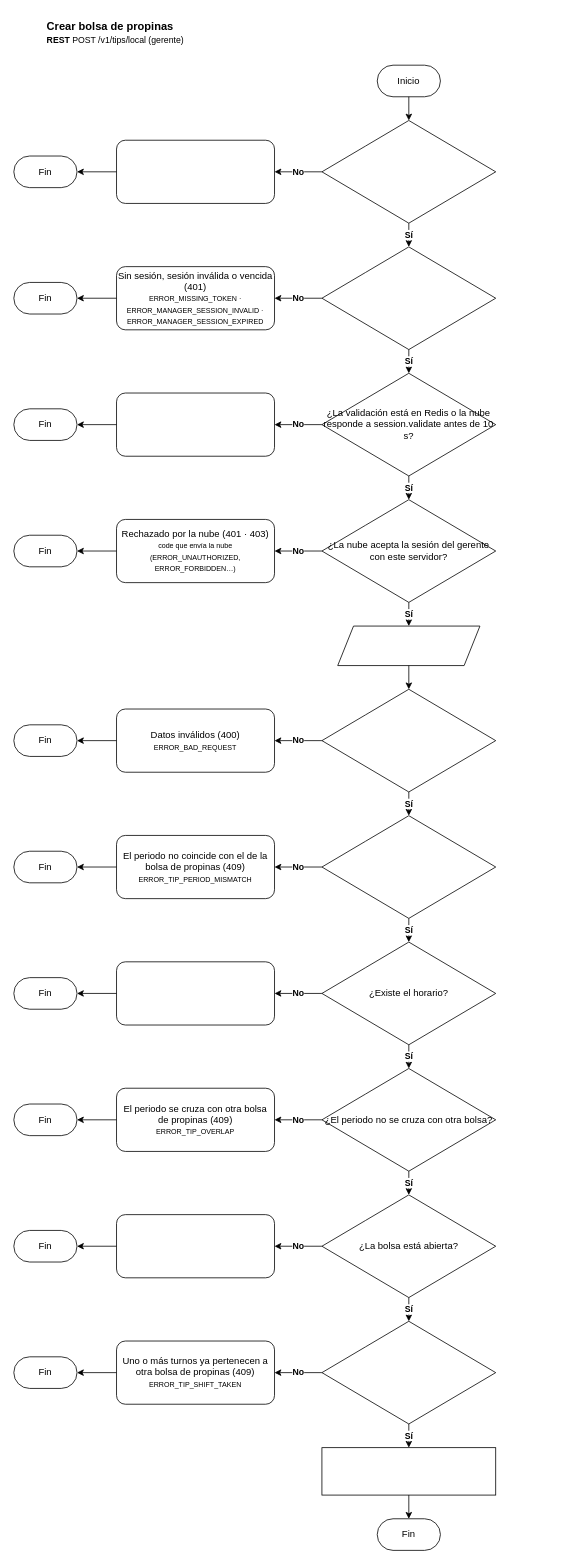
This 565x1564 diagram has some shape labels left out. The shapes that lost their labels are listed below. From the top down, each one's centre as x and y in pixels, then its label:
[195,171]: Servidor sin emparejar (409) ERROR_SERVER_NOT_PAIRED
[408,171]: ¿El servidor ya se emparejó alguna vez (pairing_status distinto de unpaired)?
[408,298]: ¿Trae una sesión de gerente válida (Bearer mss_..., sin 30 min de inactividad)?
[195,424]: La nube no responde (503) ERROR_CLOUD_UNAVAILABLE · ERROR_SERVER_UNLINKED
[408,645]: Recibir datos
[408,740]: ¿Los datos son válidos?
[408,866]: ¿El periodo coincide con el tip_period de la configuración?
[195,993]: No se encontró el horario (404) ERROR_WORK_SCHEDULE_NOT_FOUND
[195,1246]: La bolsa de propinas no está abierta (409) ERROR_TIP_POOL_NOT_OPEN
[408,1372]: ¿Ningún turno pertenece ya a otra bolsa?
[408,1471]: Responder 201 con el mensaje POOL_CREATED
